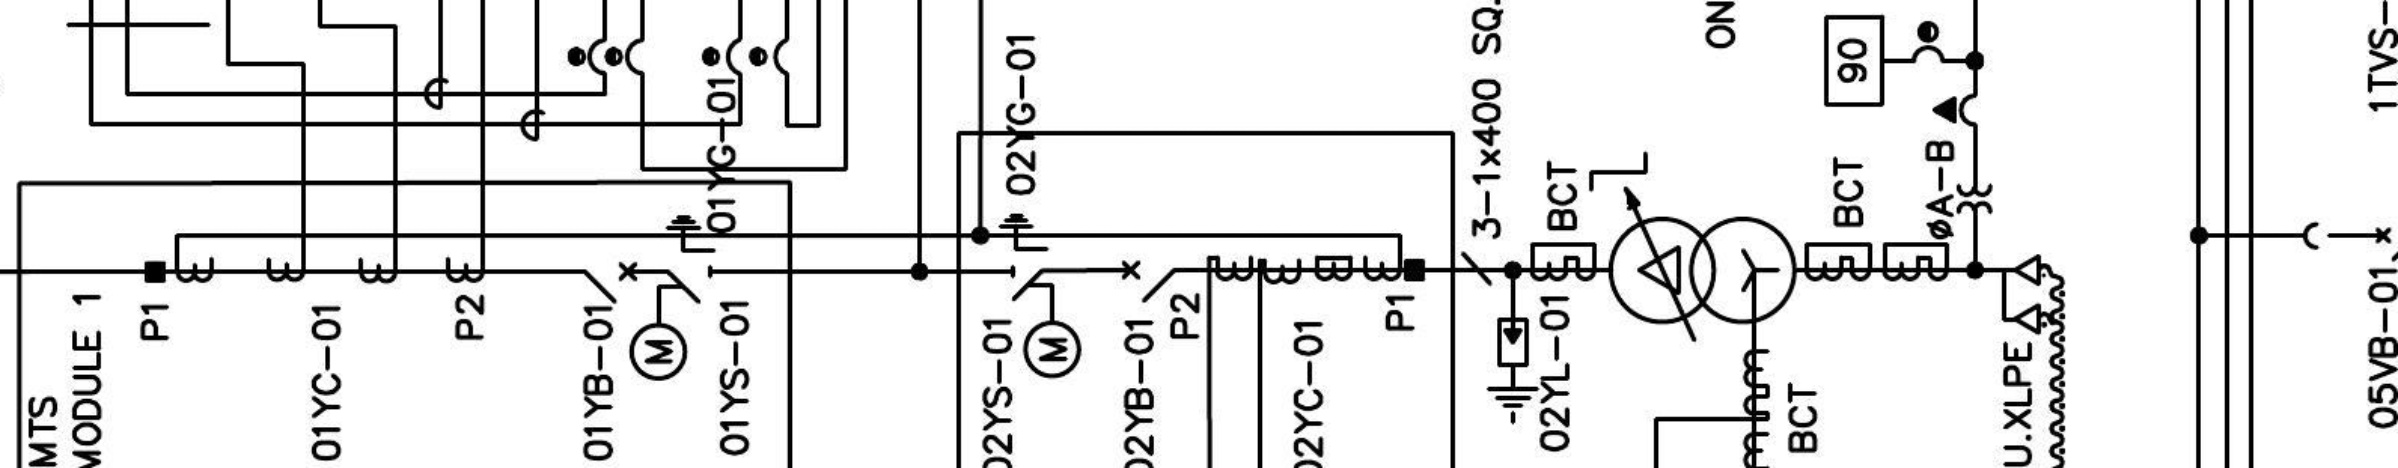11522_tx_dyn1: (1607, 216, 1798, 326)
115_3ways_ds_w_motor: (629, 214, 717, 382), (997, 213, 1083, 381)
115_breaker: (583, 260, 638, 306), (1121, 260, 1176, 304)
115_la: (1485, 317, 1542, 427)
terminator_double: (2000, 254, 2042, 335)
